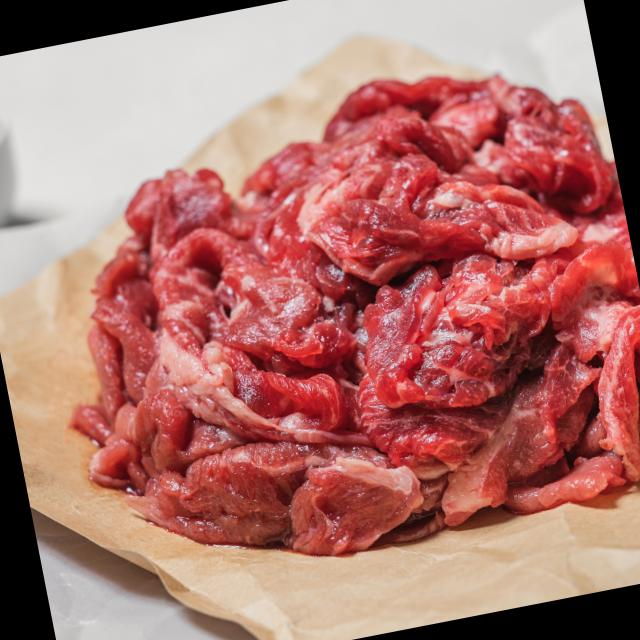beef: (121, 110, 593, 562)
